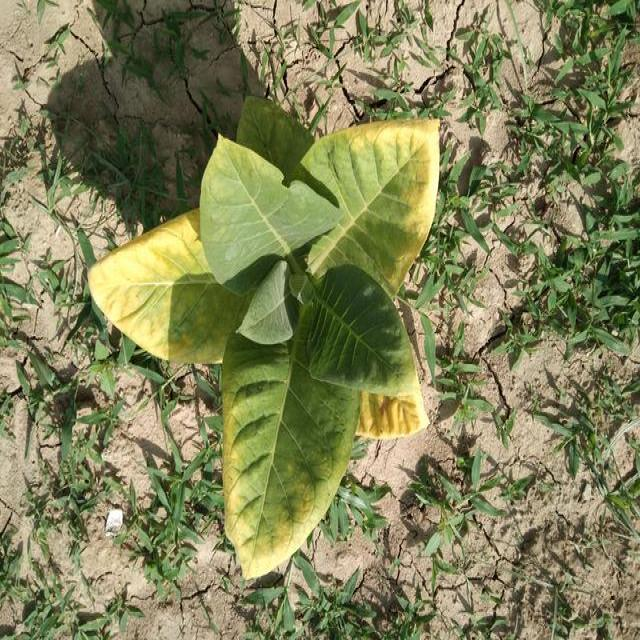crop: (80, 89, 456, 587)
